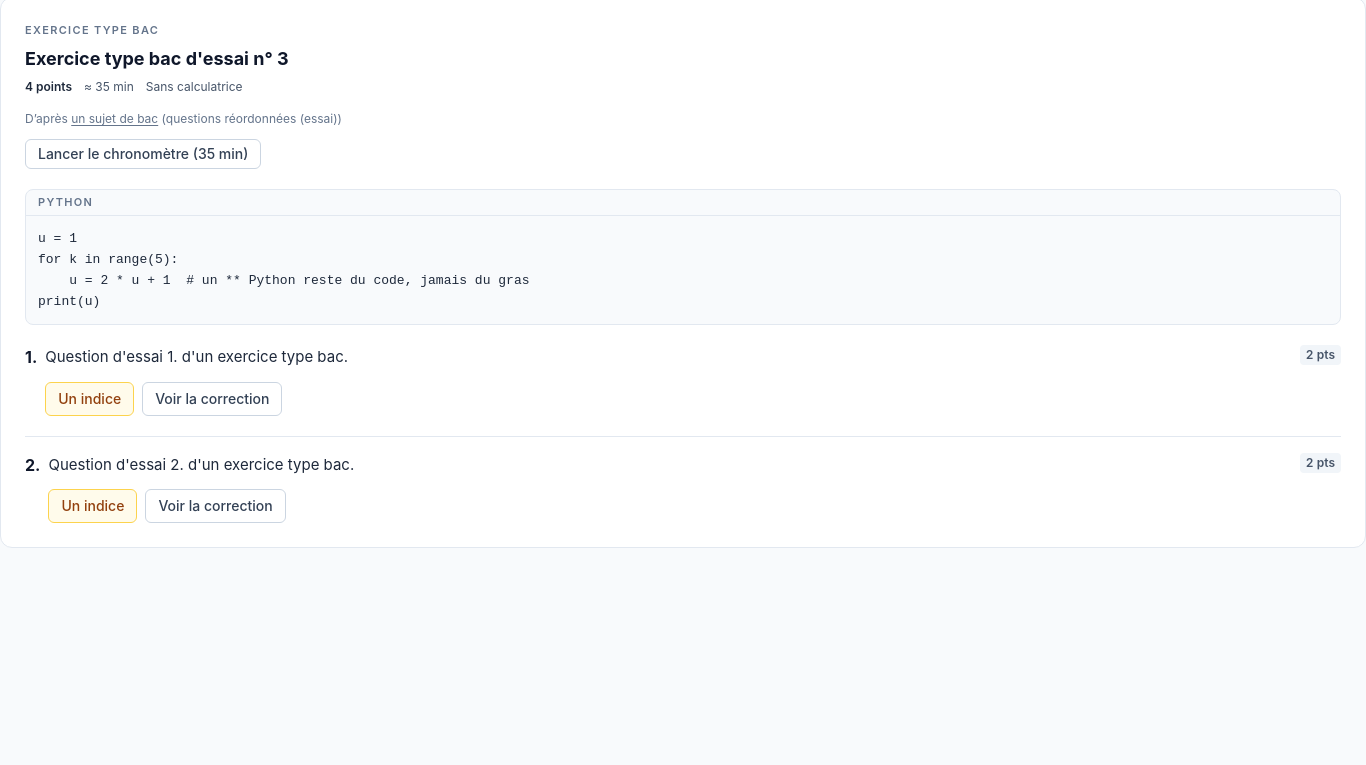
Test: TypeBacRunner › estime les points à partir de l’auto-évaluation
Click the 1st button "Voir la correction" at {"x": 212, "y": 399}, box x1=142 y1=382 x2=282 y2=416
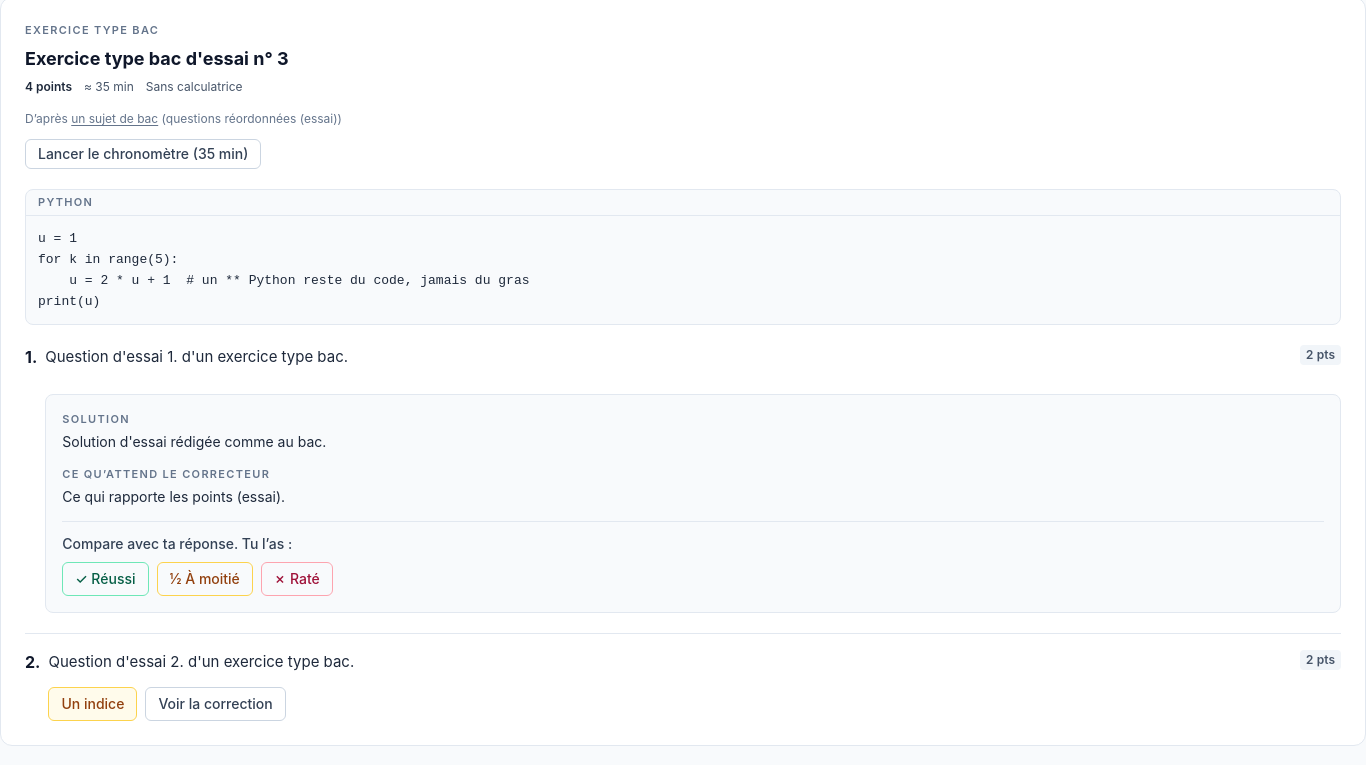
Click the button "Voir la correction" at {"x": 216, "y": 704}, box x1=145 y1=686 x2=286 y2=720
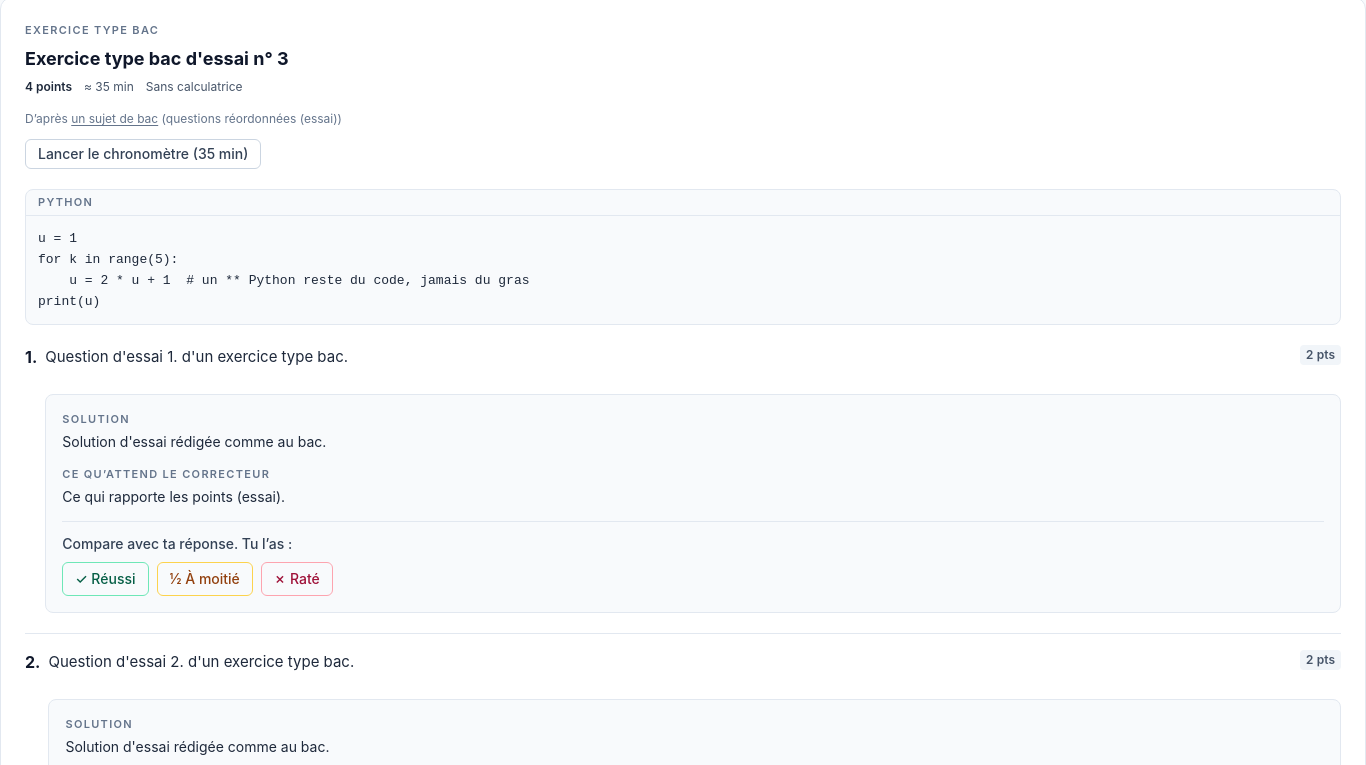
Now the text "Ce qu’attend le correcteur" is shown, box x1=62 y1=467 x2=270 y2=481
Click the button "✓ Réussi" at {"x": 105, "y": 579}, box x1=62 y1=562 x2=149 y2=596
(page scrolled)
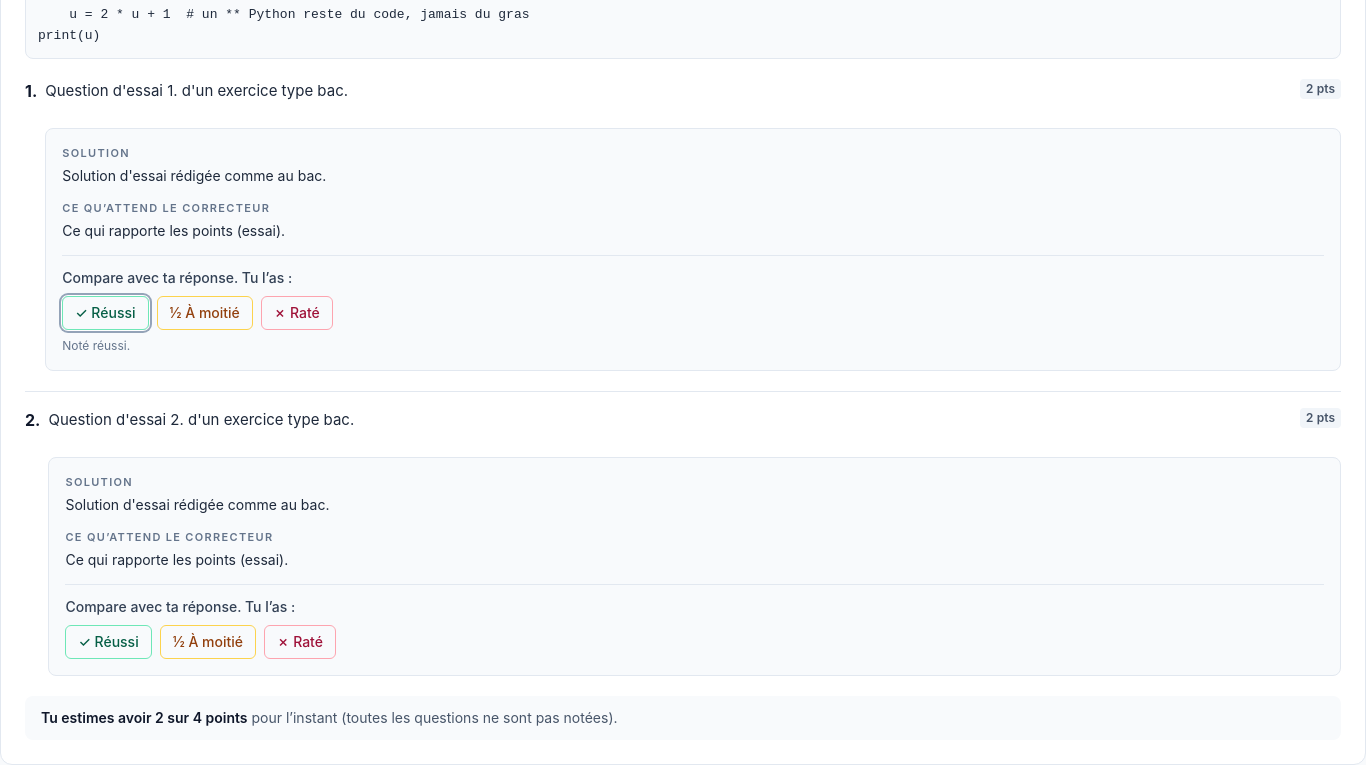
Click the 2nd button "½ À moitié" at {"x": 208, "y": 642}, box x1=160 y1=625 x2=256 y2=659
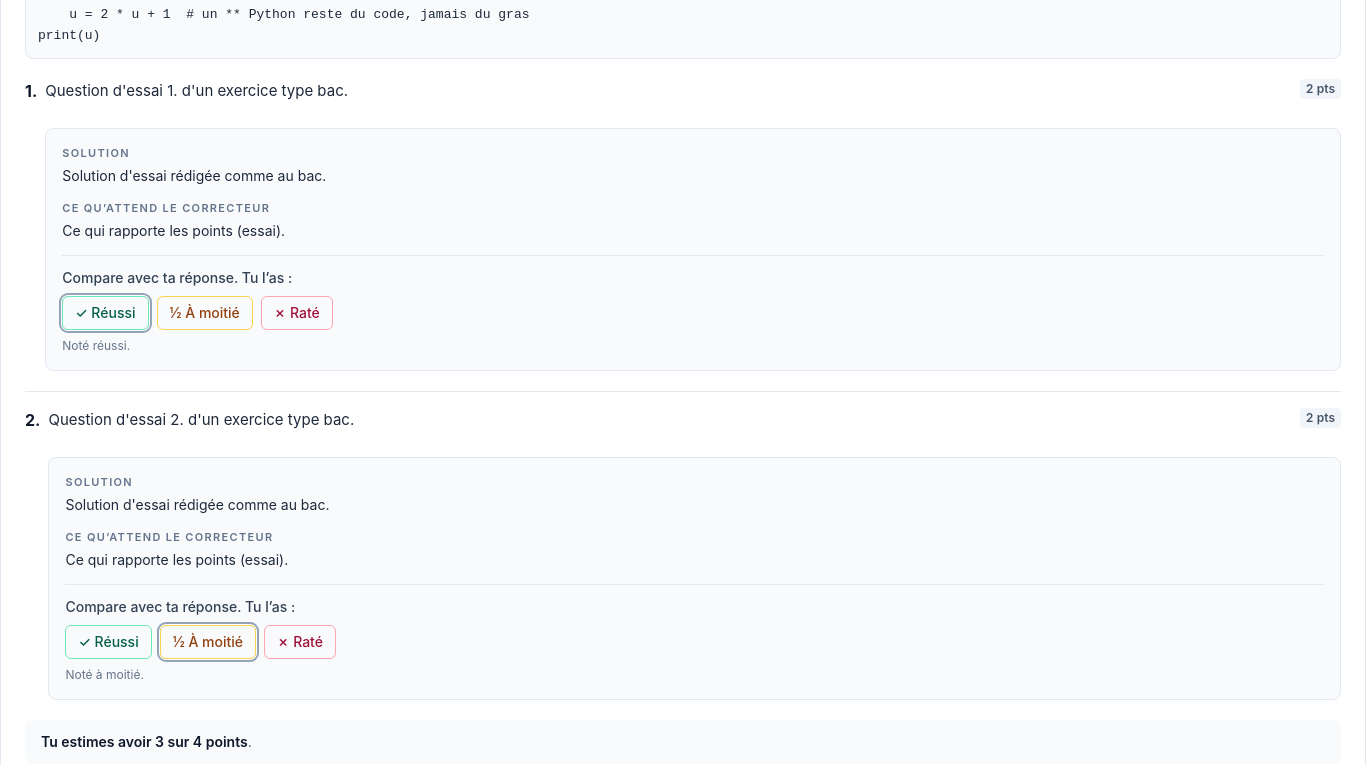
Now the message shows "Tu estimes avoir 3 sur 4 points", box x1=25 y1=720 x2=1341 y2=764
